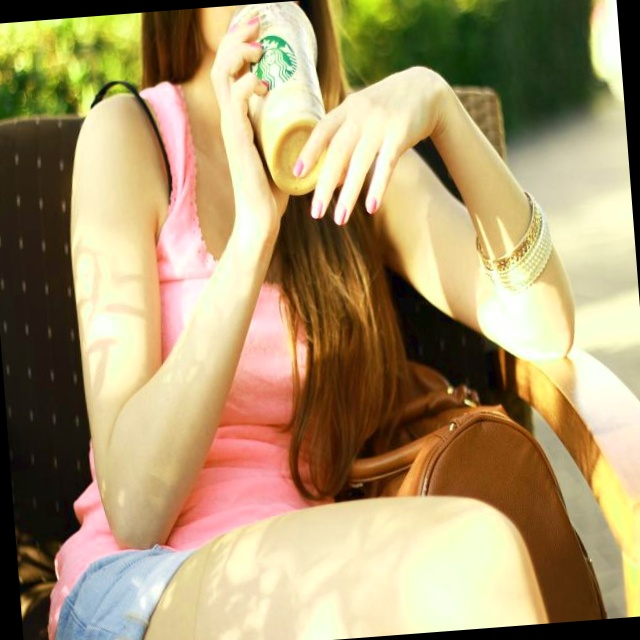Shorts: (36, 484, 551, 640)
